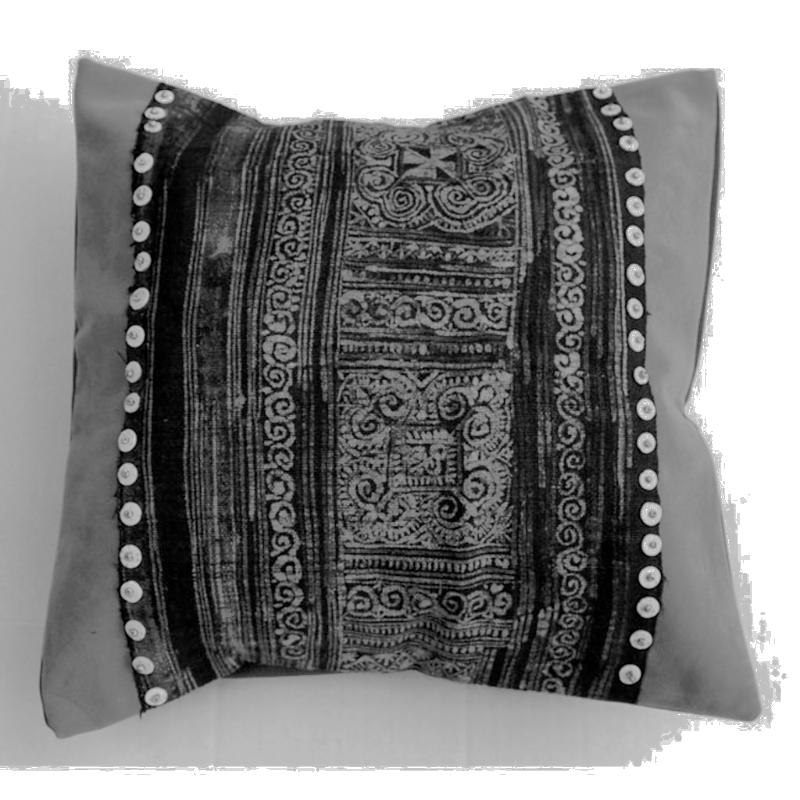pillow: (62, 59, 762, 737)
